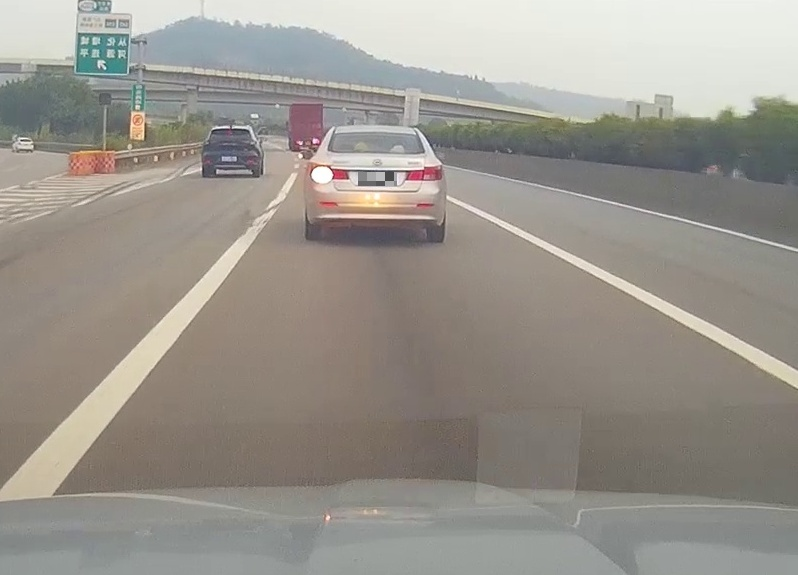L_light: (306, 162, 350, 180), (204, 140, 219, 144)
R_light: (405, 164, 443, 181), (242, 140, 256, 145)
T_light: (366, 150, 391, 153), (227, 129, 234, 130)
day-left: (303, 125, 445, 243)
day-no: (201, 126, 261, 178)
plate_1: (358, 172, 397, 186)
